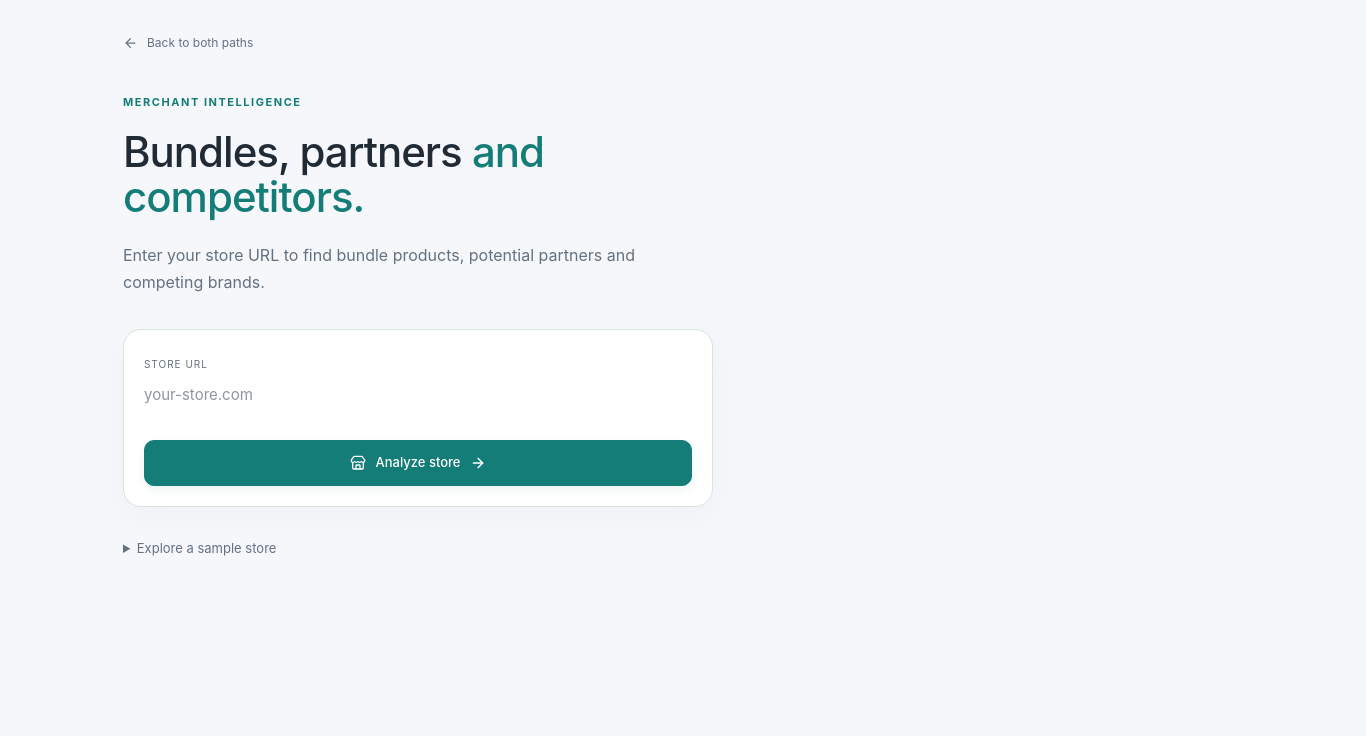
Test: MerchantWorkspace › clears the previous store when a later profile attempt fails
The image size is (1366, 736).
Type "https://outfit-brand-1.example/" into the field named "Public store URL".
click(418, 395); type("https://outfit-brand-1.example/")  # box x1=144 y1=374 x2=692 y2=416
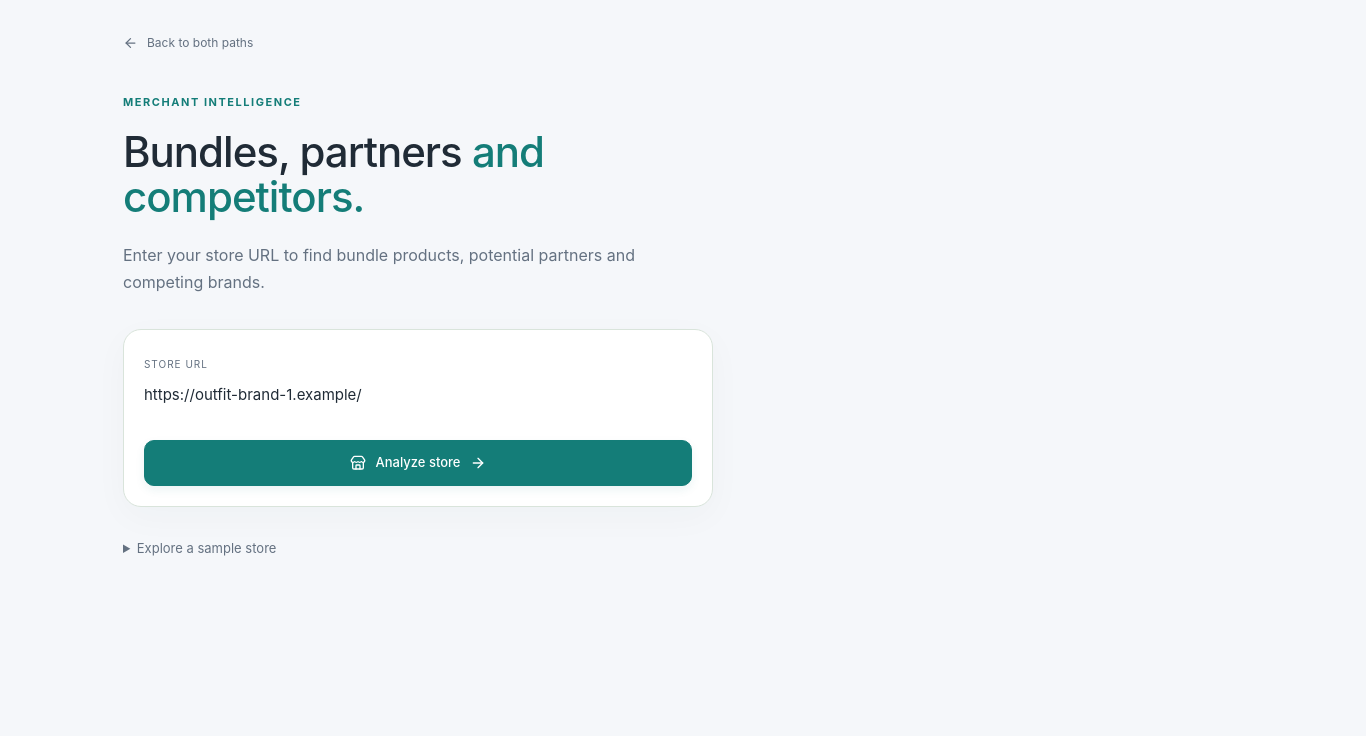
Click the button "Analyze store".
click(418, 463)  # box x1=144 y1=440 x2=692 y2=486
(page scrolled)
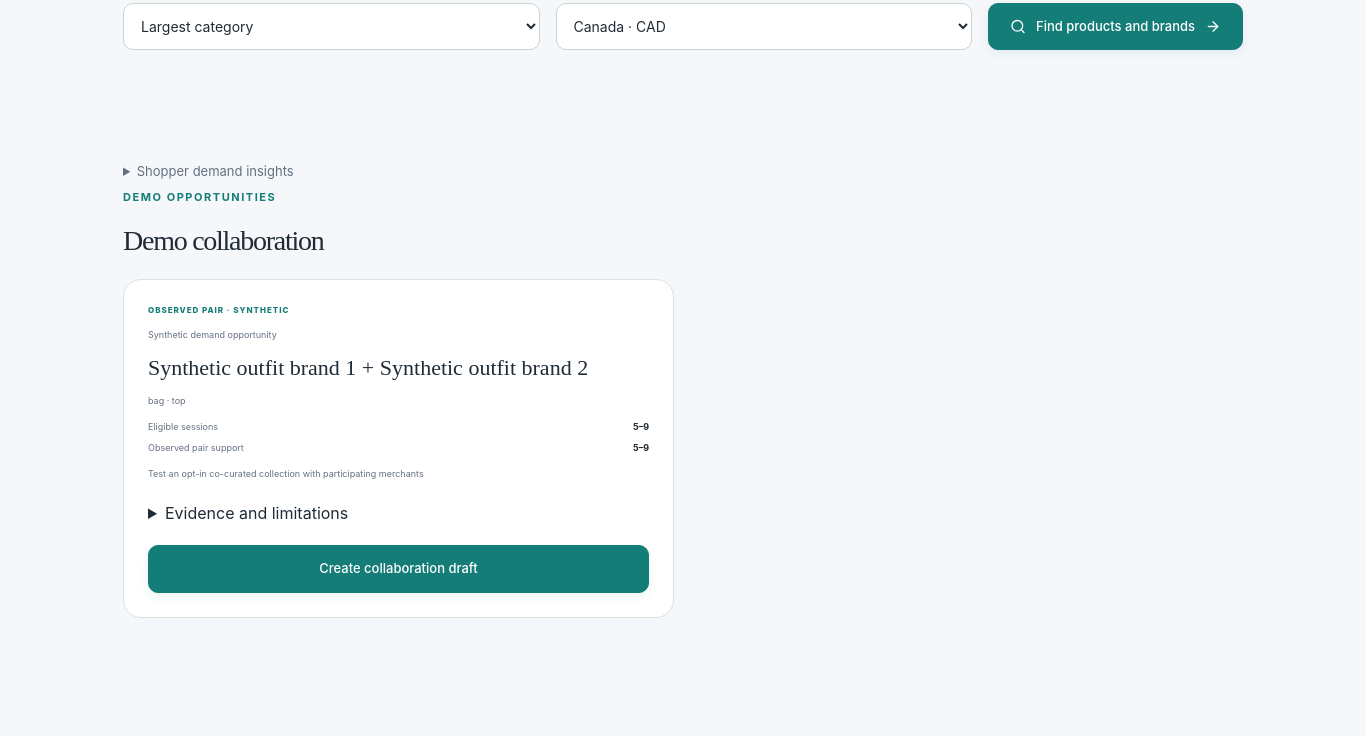
Click the button "Create collaboration draft".
click(398, 569)  # box x1=148 y1=545 x2=649 y2=593
(page scrolled)
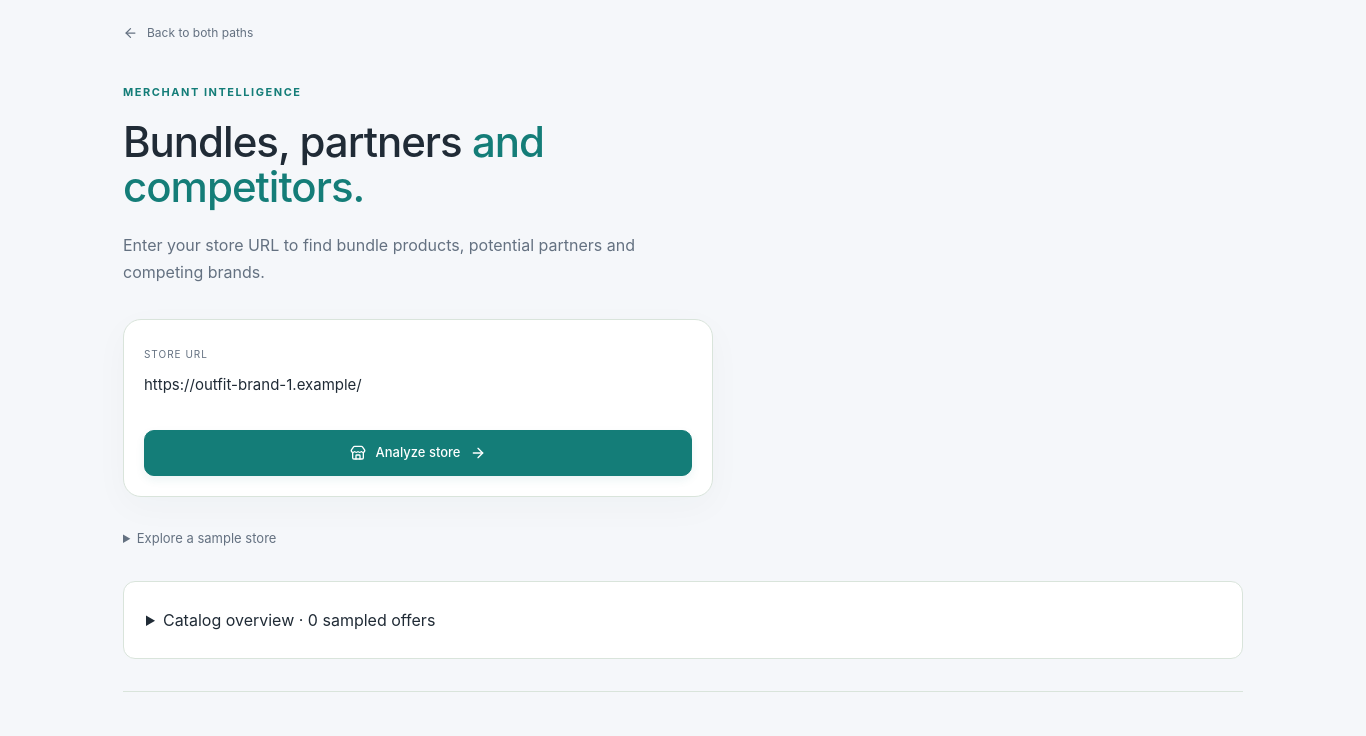
Replace the text in the field named "Public store URL" with "https://not-a-seed.com/" at point(418, 385), box x1=144 y1=364 x2=692 y2=406
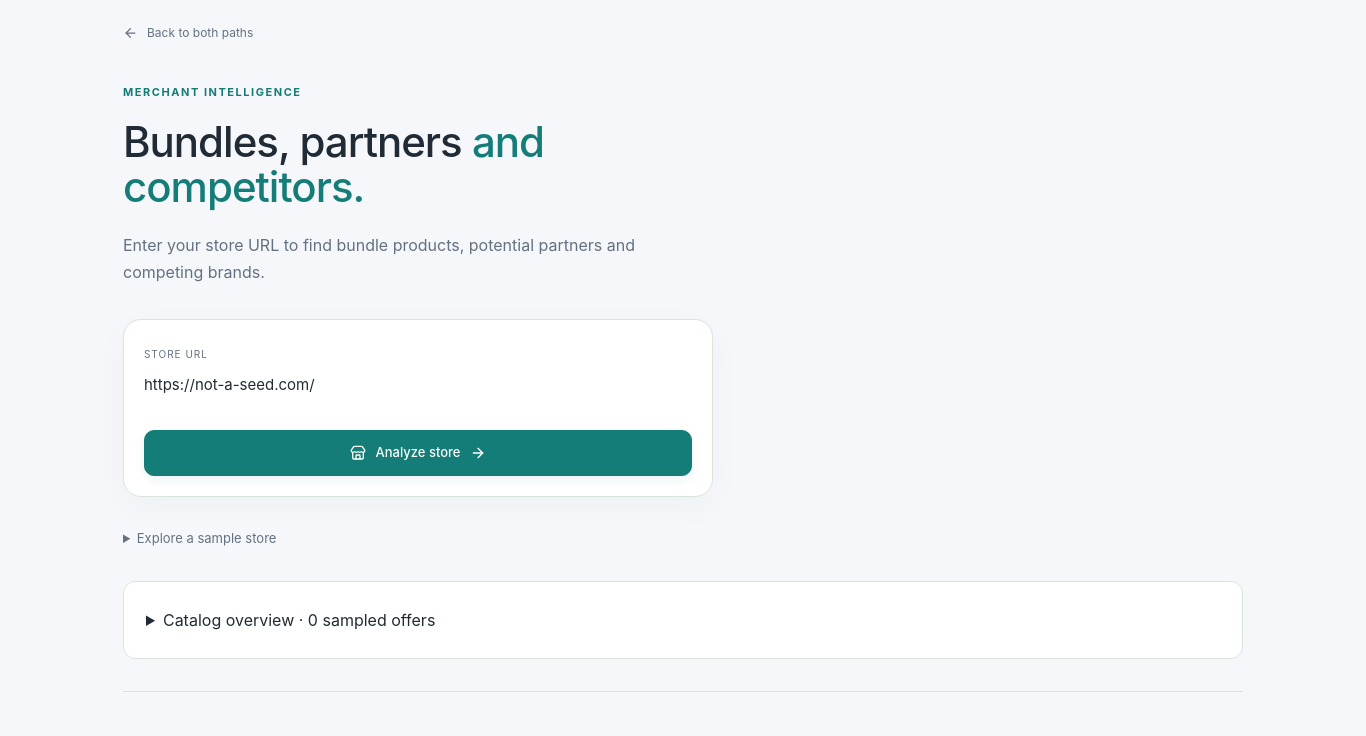
Click the button "Analyze store".
click(418, 453)  # box x1=144 y1=430 x2=692 y2=476
(page scrolled)
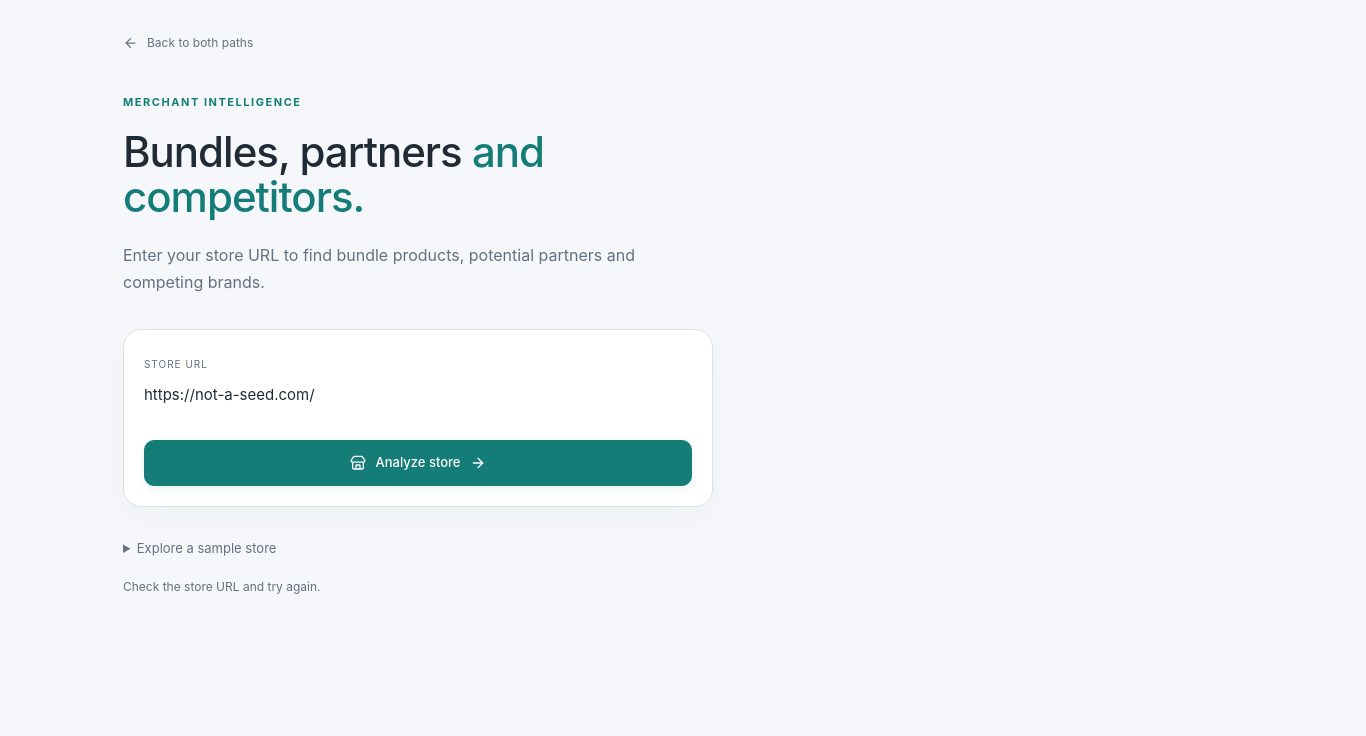
Expected: the button "Create collaboration draft" is not shown
Expected: the message "Check the store URL and try again." is shown, x1=123 y1=579 x2=320 y2=594
